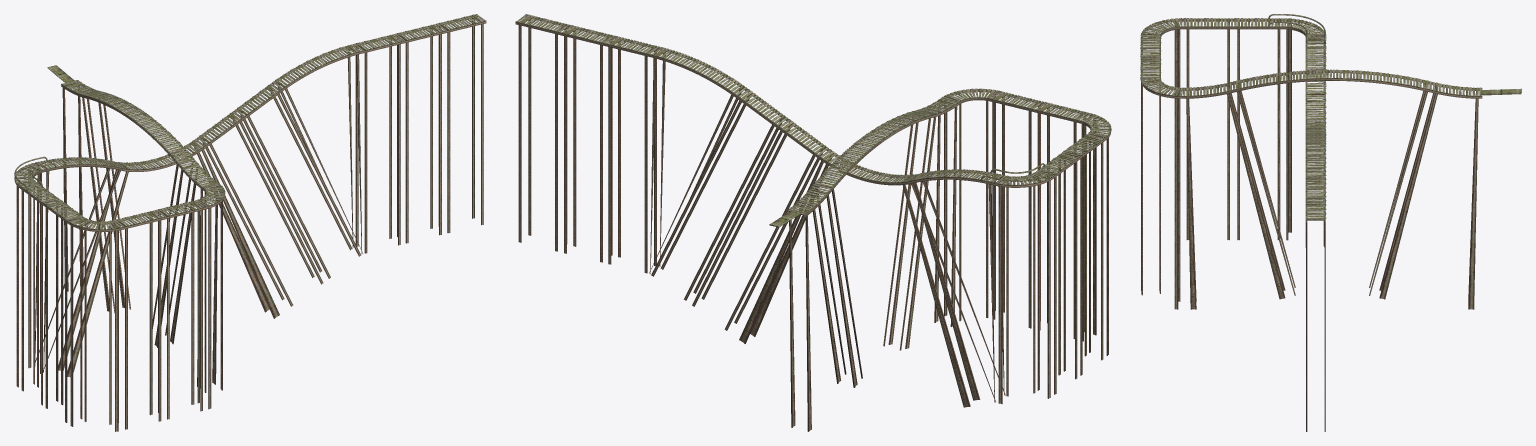
The picture shows the model from 3 angles, left to right: view 1: azimuth 30°, elevation 25°; view 2: azimuth 150°, elevation 25°; view 3: azimuth 270°, elevation 25°; orthographic projection. The views are drawn at different scales.
Visible parts, largest first — view 1: ramp_001, ramp_009__7_, Ramp_001__45_, Ramp_001__49_, Ramp_001__48_, ramp_009__8_, Ramp_001__34_, Ramp_001__33_, Ramp_001__47_, Ramp_001__46_, Ramp_001__35_, ramp (+7 smaller); view 2: ramp_001, ramp_002__1_, ramp_009__6_, Ramp_001__45_, Ramp_001__49_, ramp_002, Ramp_001__48_, Ramp_001__47_, Ramp_001__46_, Ramp_001__33_, ramp, Ramp_001__32_ (+7 smaller); view 3: ramp_002__1_, ramp_002, ramp_009__8_, ramp_003, ramp_003__1_, Ramp_001__32_, ramp_009__6_, Ramp_001__33_, Ramp_001__47_, ramp__1_, ramp_009__7_, Ramp_001__35_ (+5 smaller).
Part boxes in pixels (box(x1,y1,x2,y2)): ramp_001: box(58, 138, 279, 377); ramp_009__7_: box(68, 217, 122, 431); Ramp_001__45_: box(353, 34, 403, 253); Ramp_001__49_: box(234, 83, 361, 278); Ramp_001__48_: box(197, 111, 323, 306); ramp_009__8_: box(196, 184, 225, 409); Ramp_001__34_: box(113, 210, 164, 429); Ramp_001__33_: box(44, 199, 83, 422); Ramp_001__47_: box(436, 14, 486, 233); Ramp_001__46_: box(394, 24, 444, 243); Ramp_001__35_: box(155, 200, 205, 419); ramp: box(272, 44, 362, 253); ramp_001: box(739, 149, 980, 407); ramp_002__1_: box(787, 186, 857, 431); ramp_009__6_: box(994, 172, 1053, 403); Ramp_001__45_: box(605, 36, 659, 273); Ramp_001__49_: box(651, 89, 788, 300); ramp_002: box(888, 98, 958, 348); Ramp_001__48_: box(692, 119, 828, 330); Ramp_001__47_: box(515, 14, 570, 251); Ramp_001__46_: box(560, 25, 615, 262); Ramp_001__33_: box(1062, 134, 1105, 375); ramp: box(649, 47, 747, 273); Ramp_001__32_: box(1036, 153, 1079, 394); ramp_002__1_: box(1379, 82, 1482, 309); ramp_002: box(1182, 82, 1285, 309); ramp_009__8_: box(1140, 78, 1182, 309); ramp_003: box(1232, 69, 1332, 295); ramp_003__1_: box(1332, 69, 1432, 295); Ramp_001__32_: box(1233, 18, 1283, 240); ramp_009__6_: box(1283, 18, 1326, 247); Ramp_001__33_: box(1183, 18, 1233, 240); Ramp_001__47_: box(1305, 198, 1326, 431); ramp__1_: box(1305, 36, 1326, 97); ramp_009__7_: box(1140, 18, 1182, 95); Ramp_001__35_: box(1140, 57, 1161, 290).
Size of the model in its own units: 5728 by 2930 by 3769.
